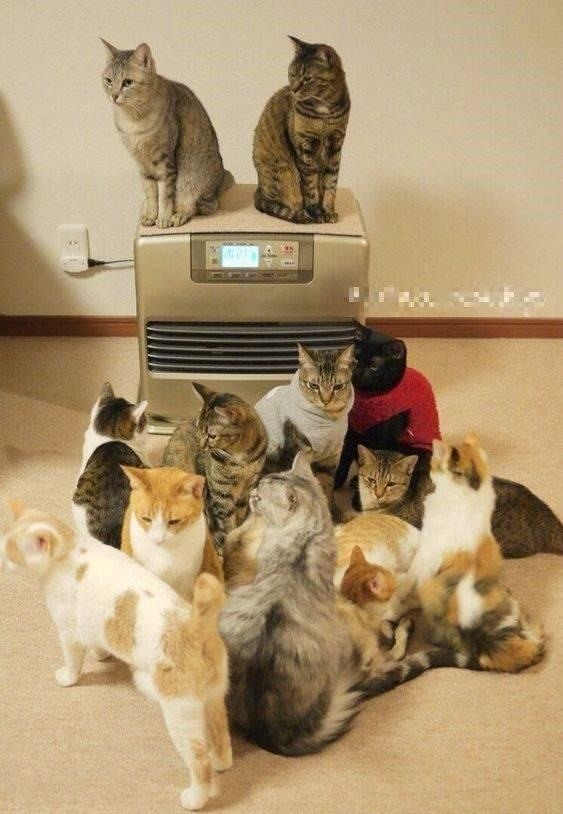cat: (1, 499, 234, 809), (218, 453, 362, 759), (393, 433, 547, 672), (96, 38, 235, 230), (354, 443, 563, 559), (248, 36, 354, 224), (333, 320, 443, 492), (248, 345, 355, 521), (161, 381, 270, 548), (119, 463, 227, 601), (73, 382, 157, 553), (332, 543, 413, 666)
